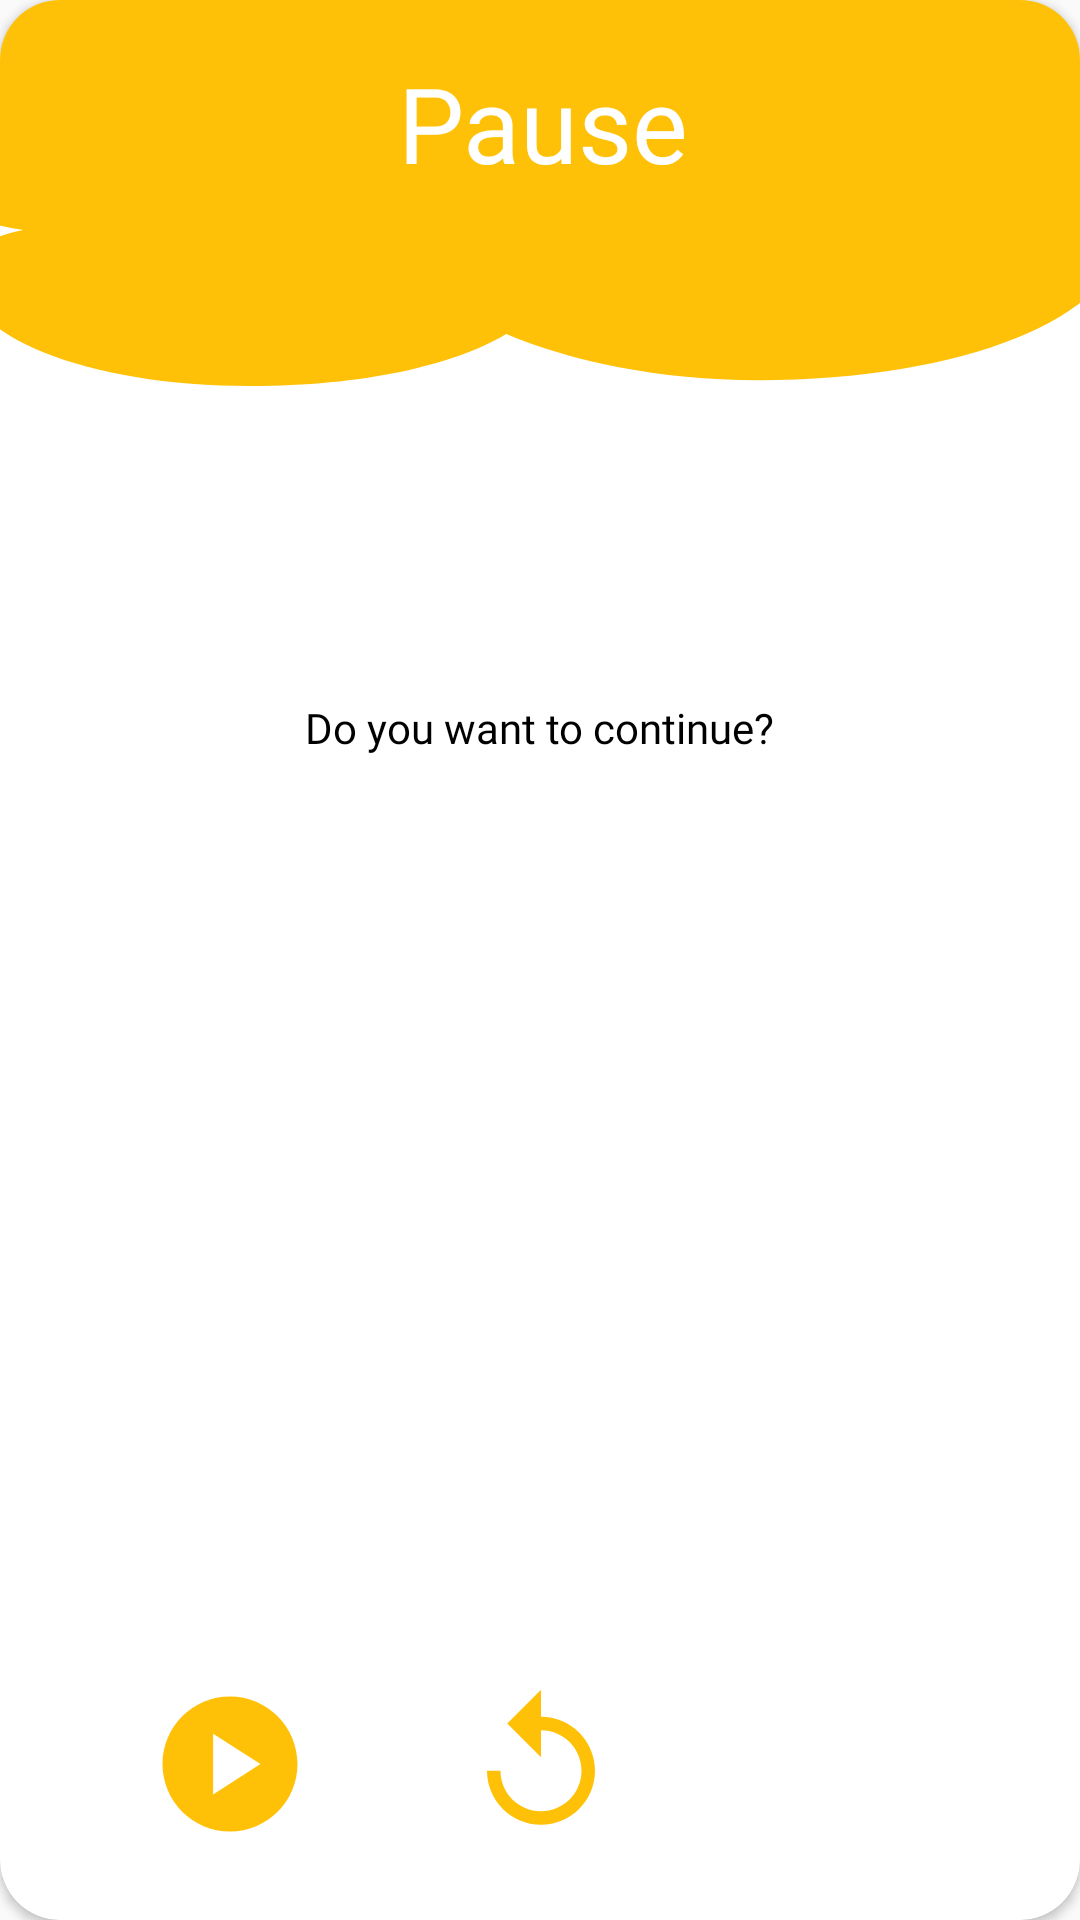

Screen size 1080×1920. Icon name, then its box in pixels as [x1,y1,x2,y2]:
play: [162,1696,298,1832]
replay: [487,1690,595,1825]
